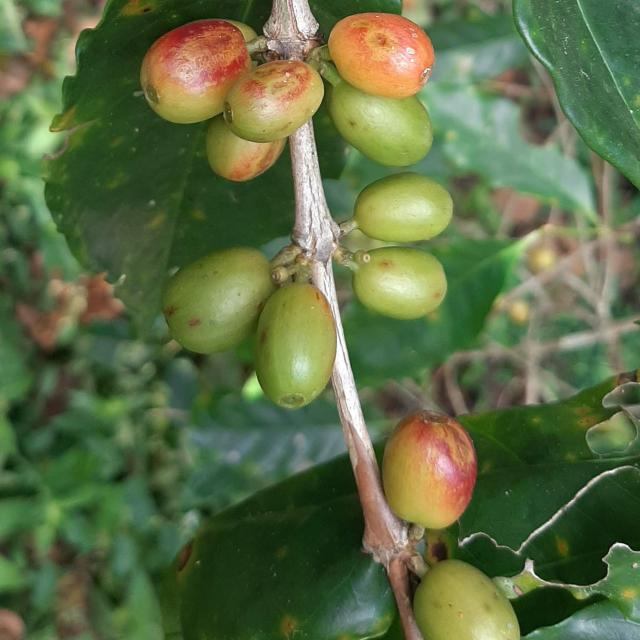green: (162, 247, 277, 354), (255, 282, 336, 409), (329, 79, 433, 166), (414, 561, 521, 640), (348, 171, 454, 242), (353, 246, 448, 320)
yellow: (140, 18, 251, 123), (382, 411, 478, 530), (328, 12, 435, 98), (223, 59, 324, 142), (206, 114, 287, 181)
